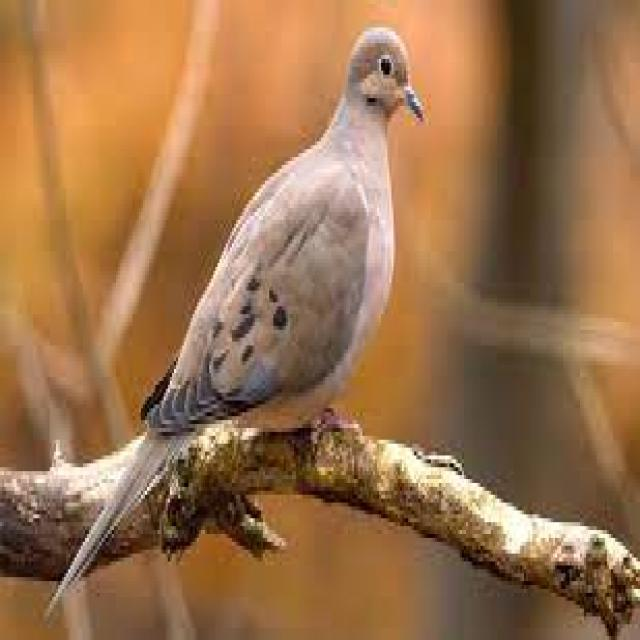bird: (46, 24, 427, 620)
